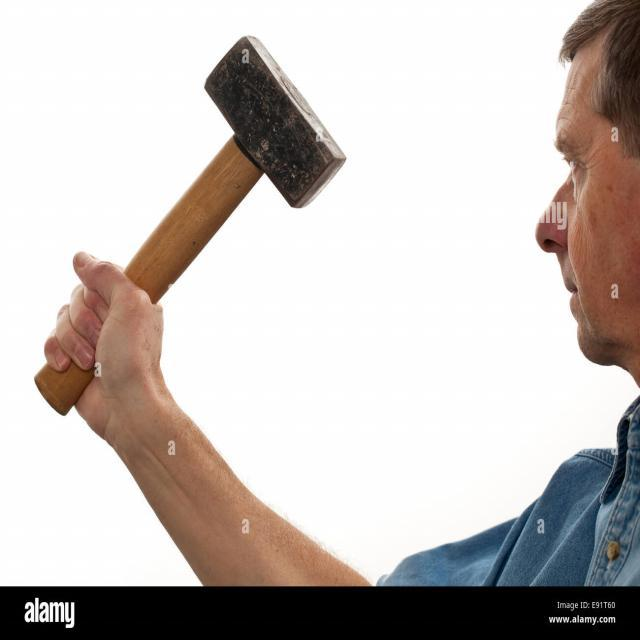hammer: (24, 26, 352, 434)
